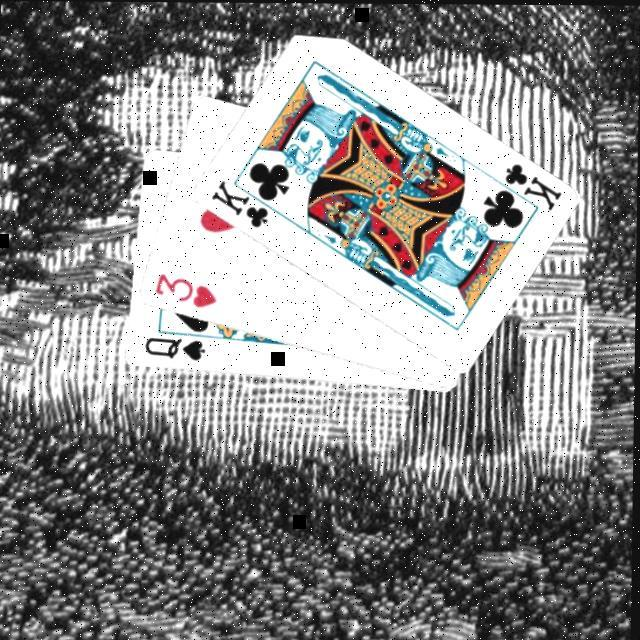3H: (150, 267, 218, 308)
KC: (486, 156, 563, 211), (205, 174, 283, 228)
QS: (140, 332, 207, 362)
